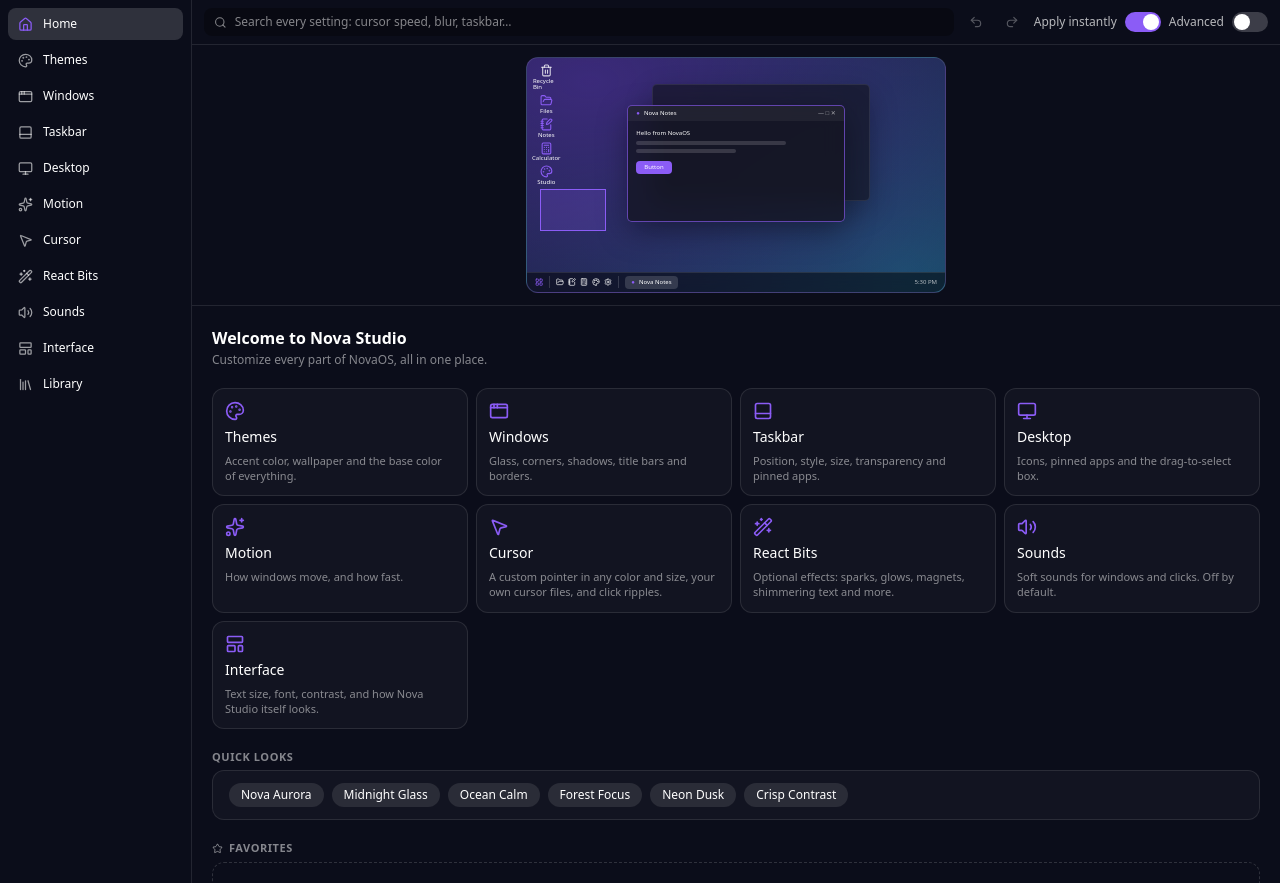
Test: the React Bits studio › says so when Reduce motion is pausing the effects
The image size is (1280, 883).
Click the button "React Bits" at (96, 276), box [8,260,183,292]
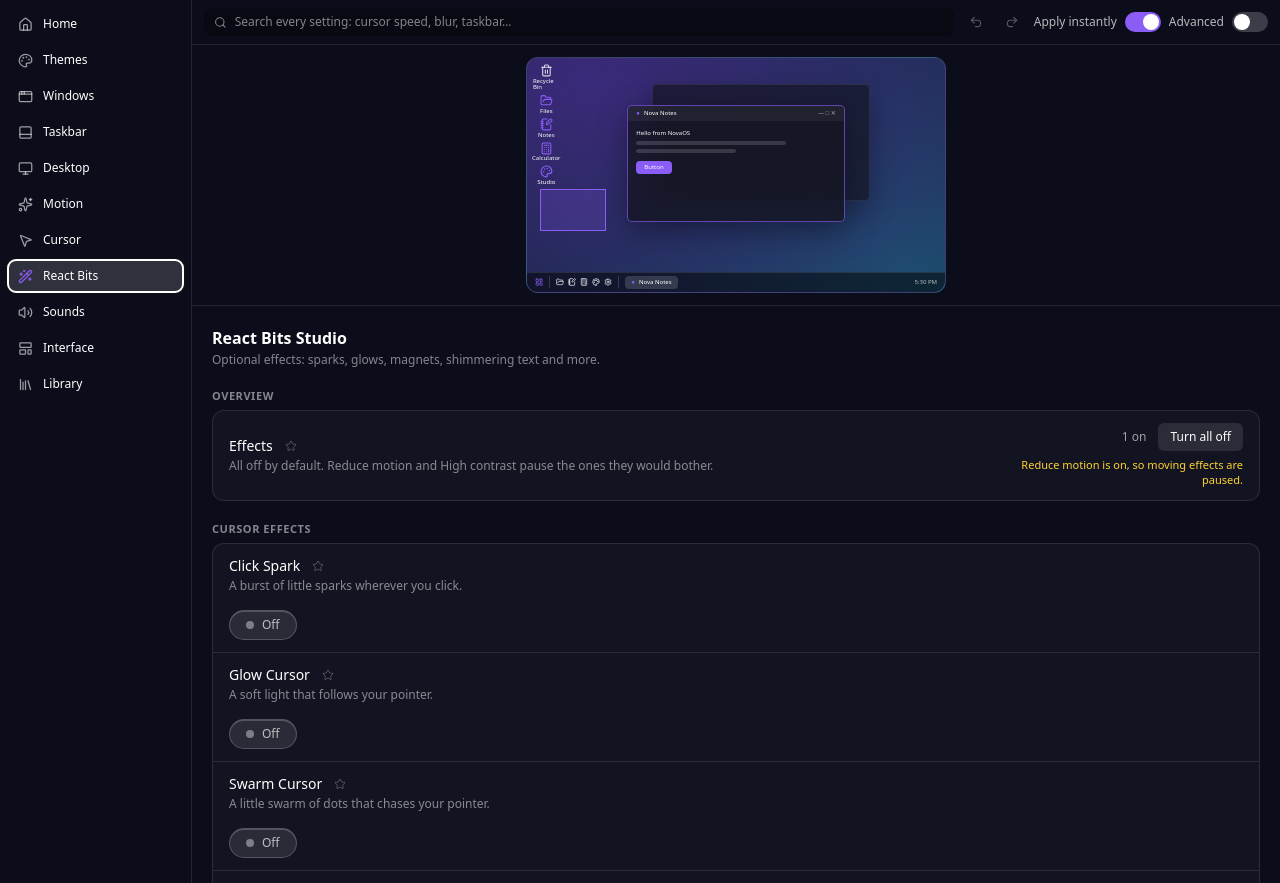
Expected: the text "Reduce motion is on, so moving effects are paused." is shown, [987,457,1243,488]
